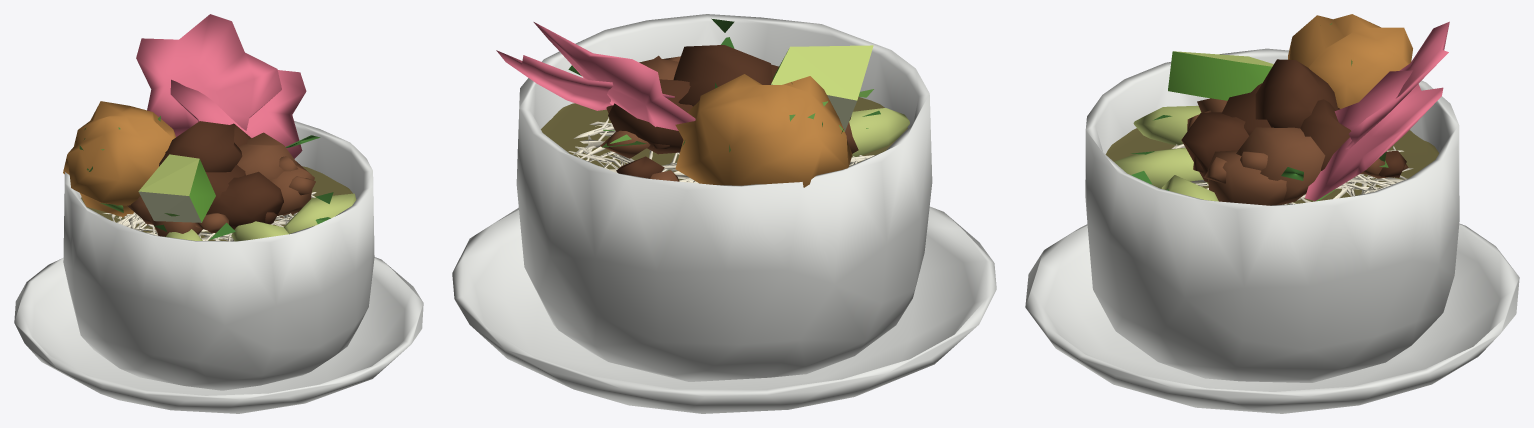
The model's file is soto padang  low poly.fbx.
3 renders of one model, left to right at view 1: azimuth 30°, elevation 25°; view 2: azimuth 150°, elevation 25°; view 3: azimuth 270°, elevation 25°, orthographic. The views are drawn at different scales.
Visible parts, largest first — view 1: Soto_Padang_Isi.001; view 2: Soto_Padang_Isi.001; view 3: Soto_Padang_Isi.001.
Part boxes in pixels (<box>): Soto_Padang_Isi.001: <box>14,14,423,413</box>; Soto_Padang_Isi.001: <box>452,14,996,413</box>; Soto_Padang_Isi.001: <box>1025,14,1519,413</box>.
Bounding box in the file's own units: 19.67 × 14.41 × 19.67.
